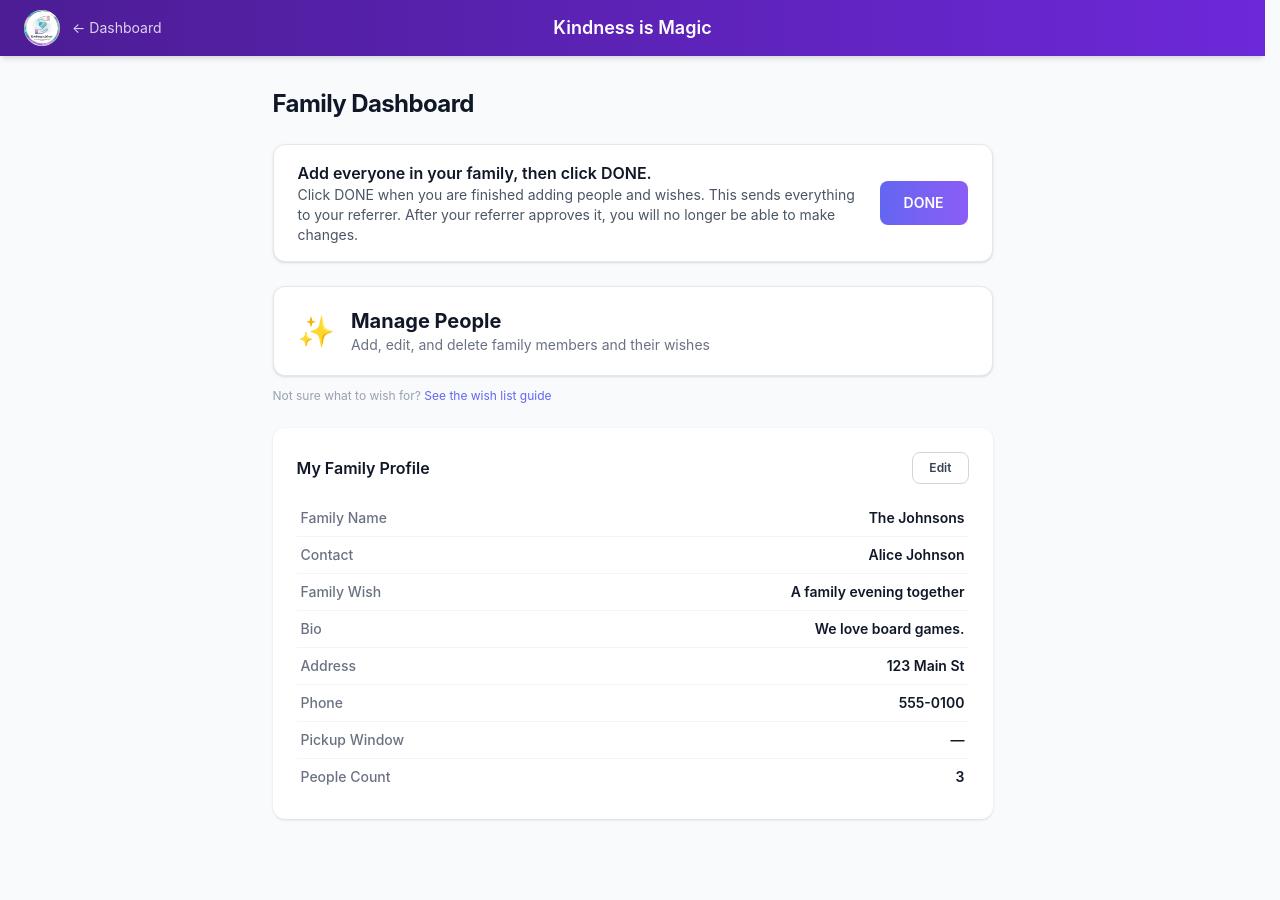
FamilyDashboard › requests referrer review via the confirm dialog
Click the button "DONE" at (924, 203), box [880,181,968,225]
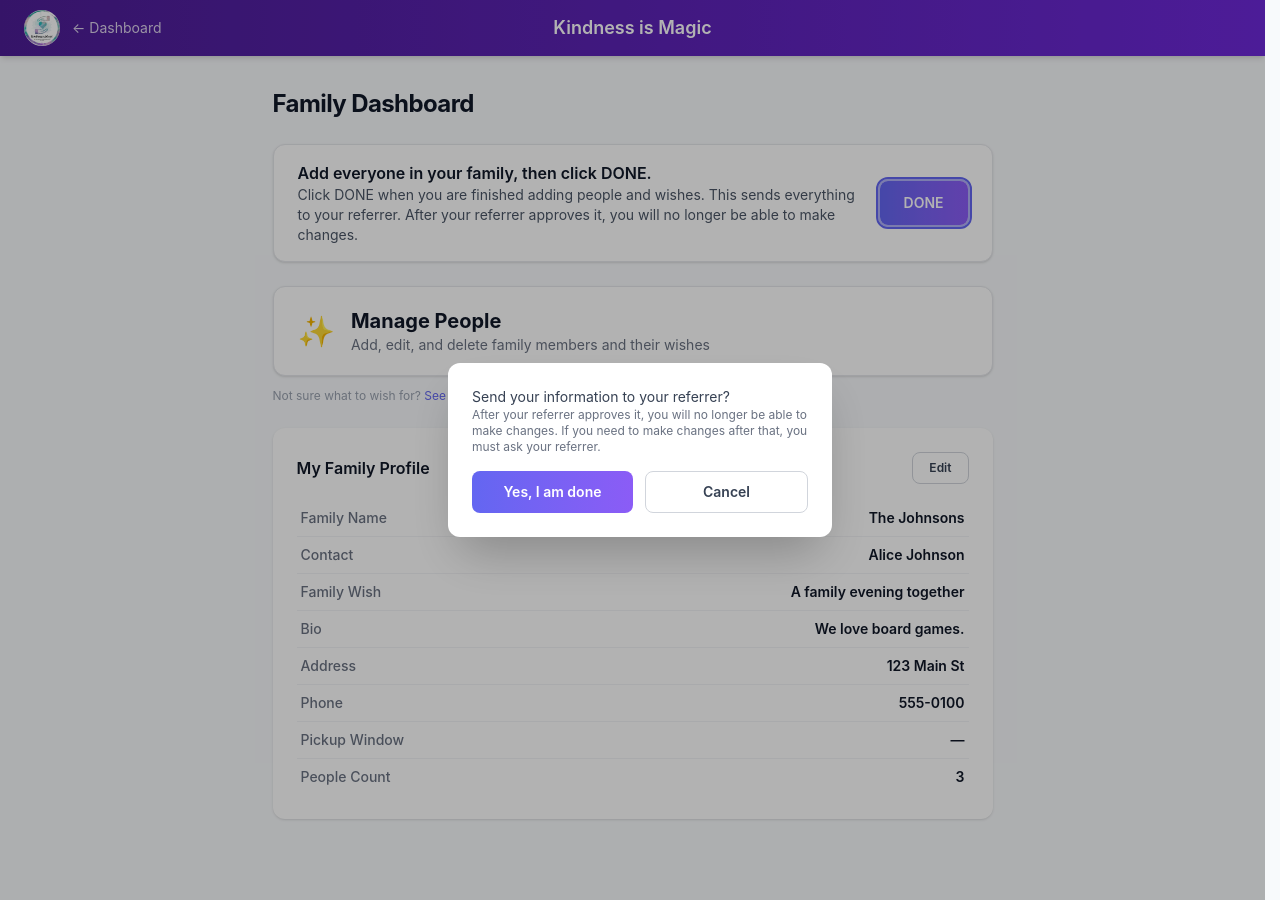
Click the button "Yes, I am done" at (552, 492), box [472,471,633,513]
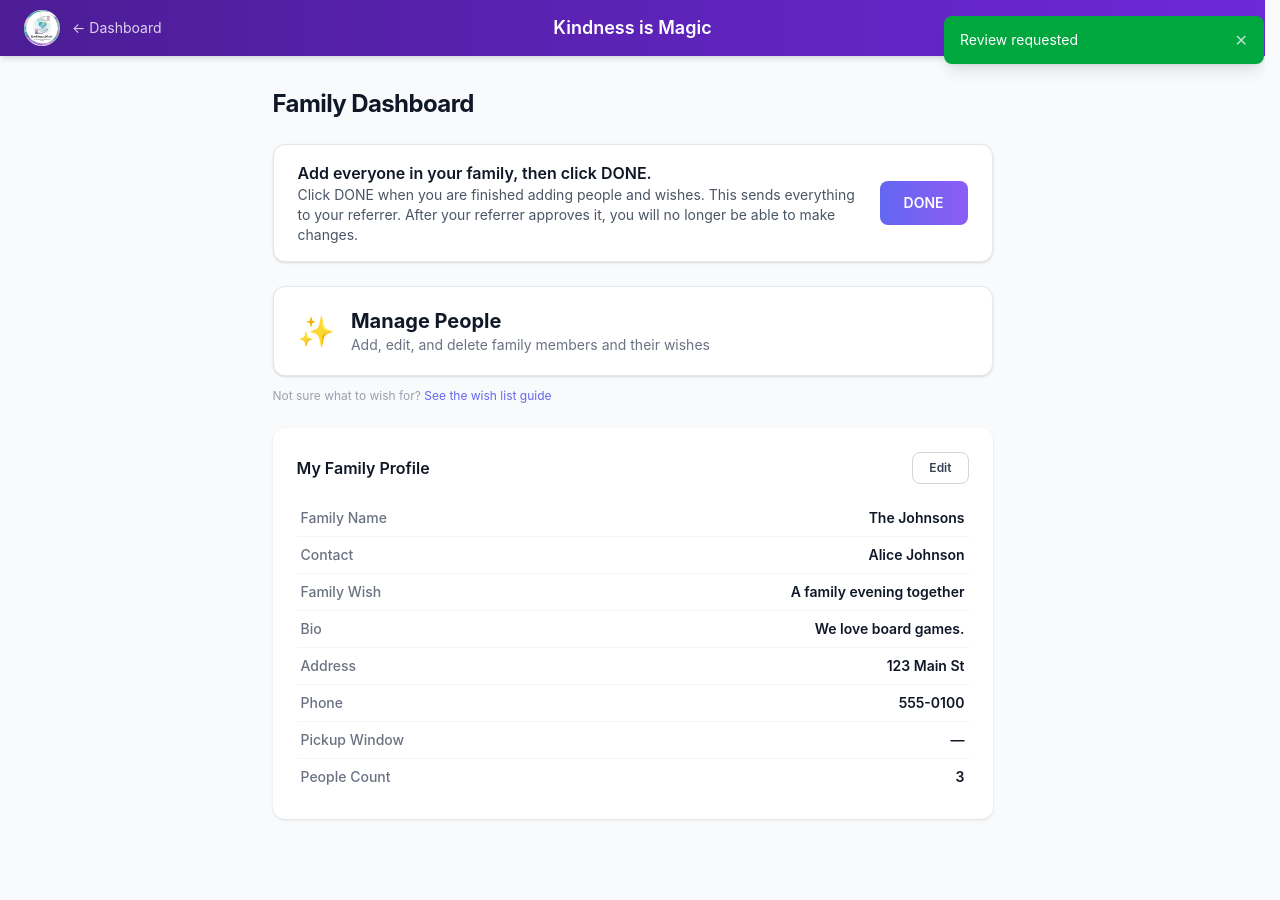
expect the text "Review requested" is shown: met, box [960,31,1078,48]
